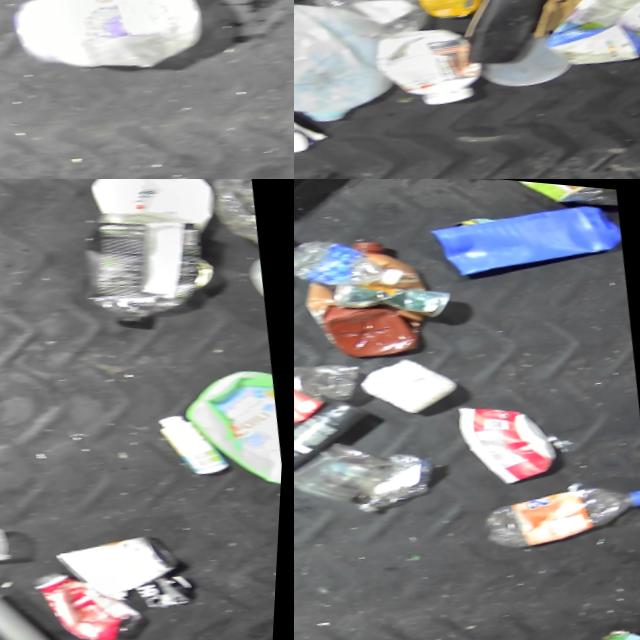can: (54, 515, 191, 602), (329, 259, 459, 329), (412, 0, 492, 19), (596, 608, 640, 640)
milk_jug: (7, 0, 216, 86), (294, 0, 409, 140)
non_white_jug: (422, 179, 627, 284), (294, 220, 441, 365), (176, 350, 289, 493)
plastic_bottle: (475, 458, 640, 553), (294, 216, 408, 297), (294, 344, 372, 439)
